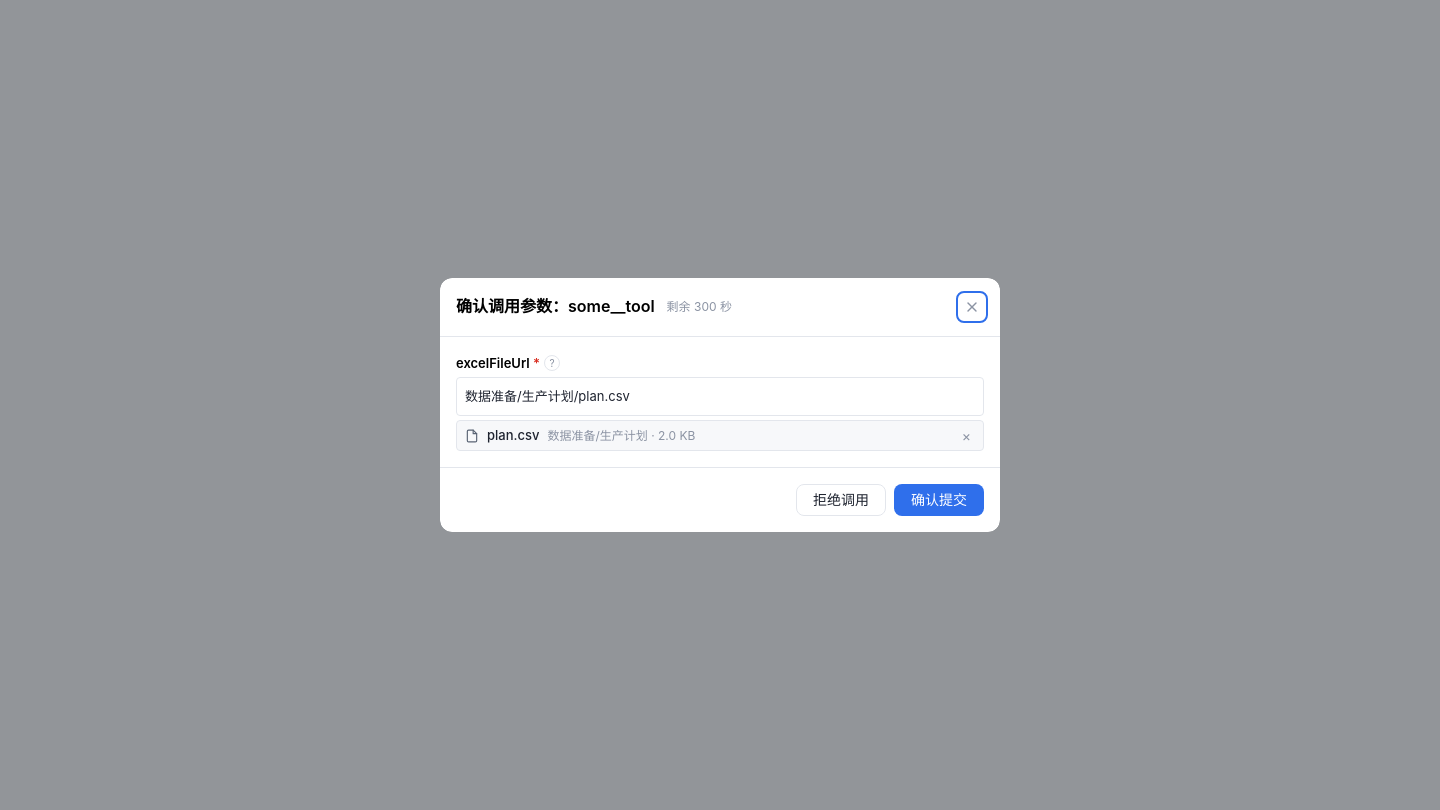
Test: InteractionDialog —— @ 文件引用与结构化卡片 › 预填路径命中文件空间 → 展示结构化卡片（文件名/目录/大小），× 清除
Check: the element with class "interaction-dialog__file-card" is shown, box [456,420,984,451]
Check: the element with class "interaction-dialog__file-card" shows "plan.csv", box [487,427,539,443]
Click the button with class "interaction-dialog__file-card-clear": (966, 436) [958,429,975,443]
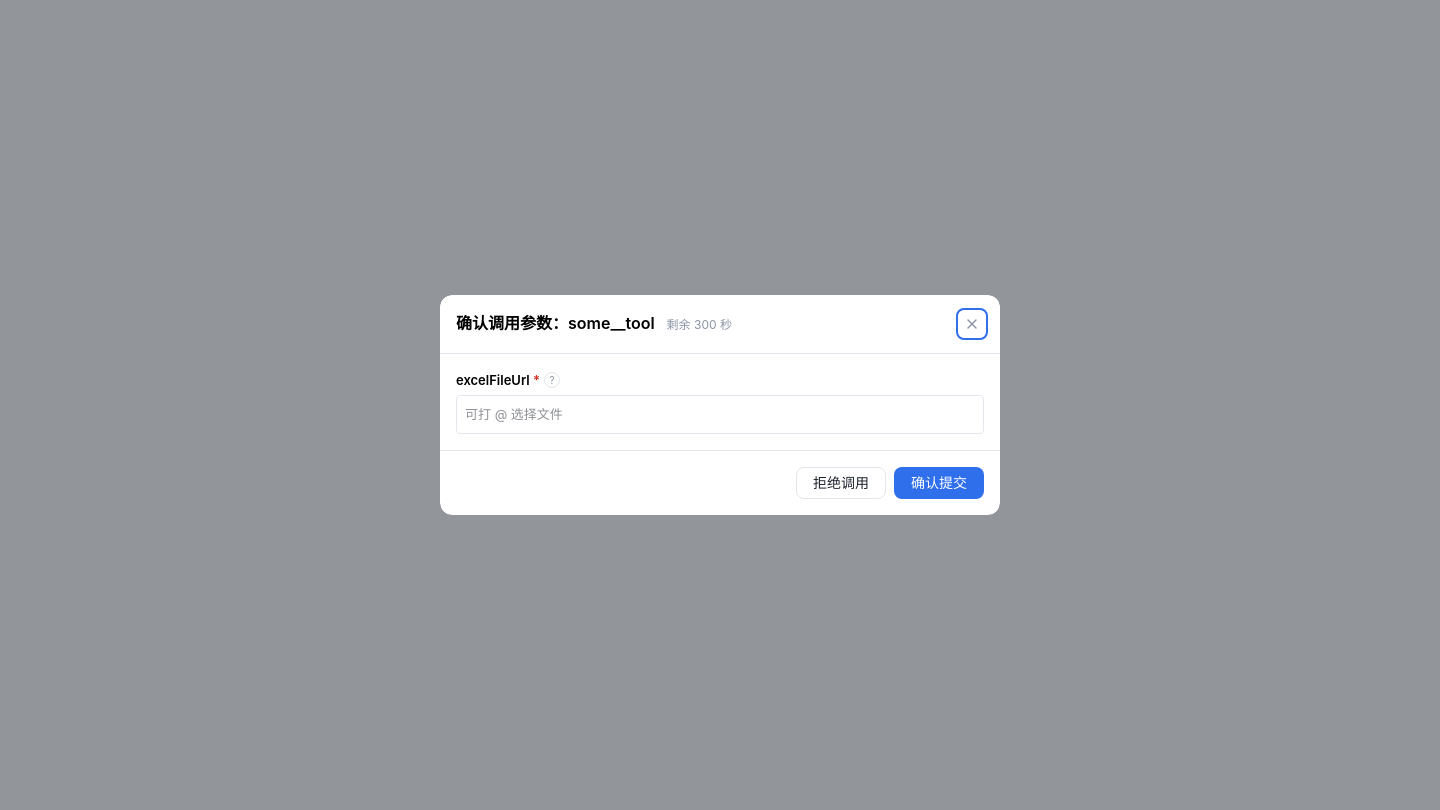
Check: the field labelled "excelFileUrl" is empty, box [456,395,984,434]
